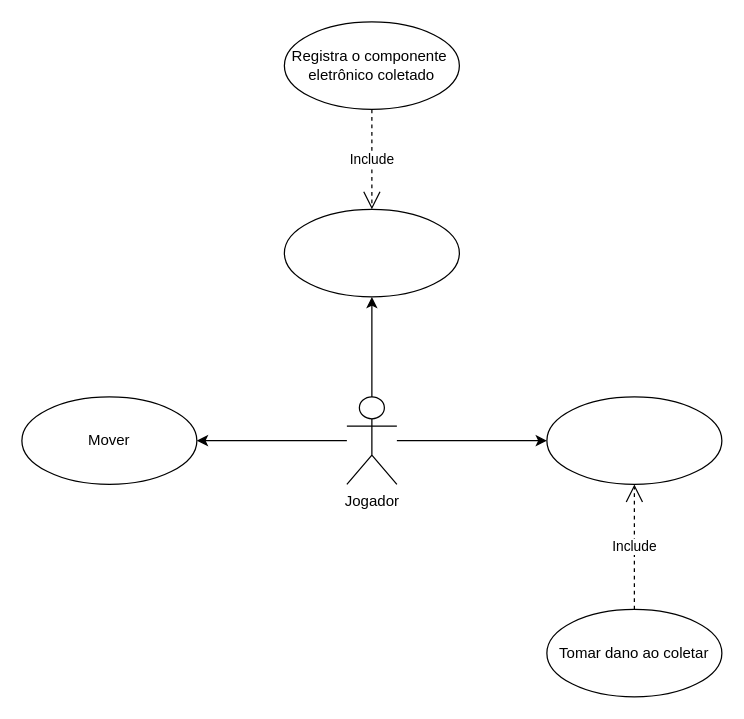
Image size: 744x719. Some labels were removed from this diagram. The shapes that lost their labels are listed below. From the top down, each one's centre as x and y in pixels, then its label:
the point at 371,252: Coletar componente eletrônico
the point at 634,440: Coletar bug corruptores
